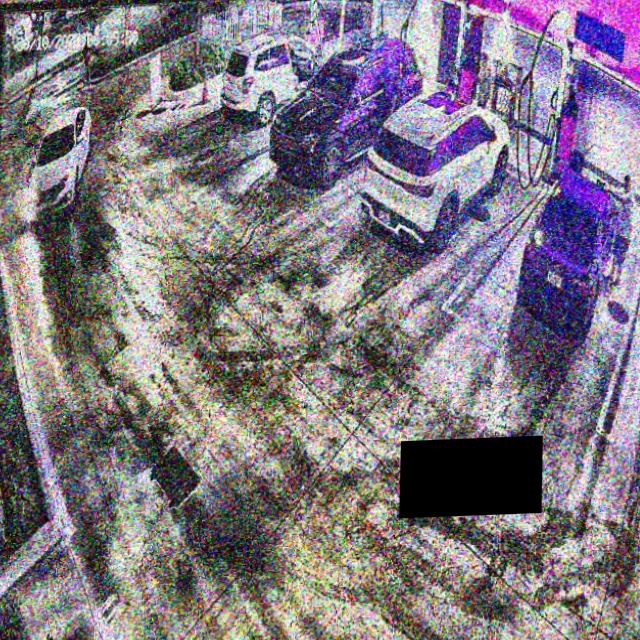Car: (265, 30, 419, 183), (370, 89, 507, 255)
